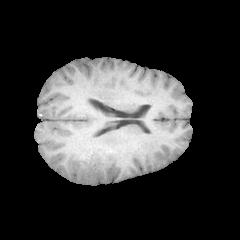glioma: (73, 138, 117, 181)
